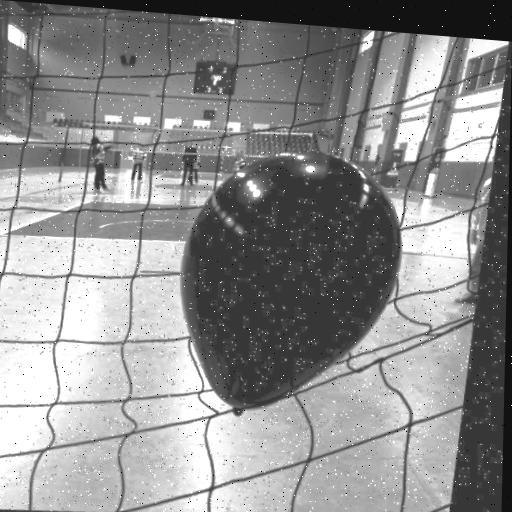balloon: (172, 139, 419, 433)
